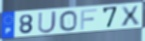7: (102, 6, 119, 30)
8: (19, 14, 35, 35)
F: (80, 8, 99, 31)
O: (59, 10, 79, 32)
U: (37, 10, 58, 35)
X: (120, 5, 141, 28)
